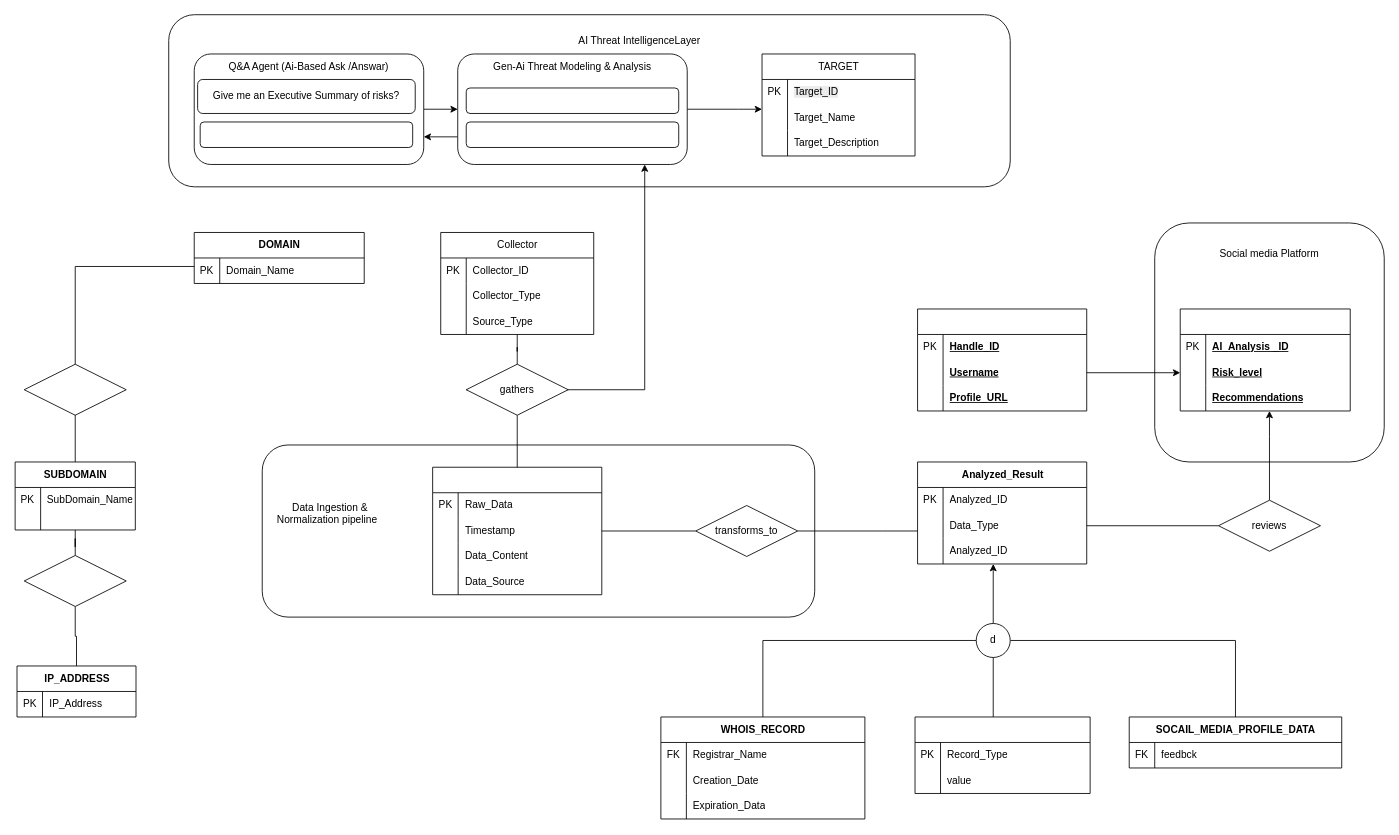
This 1399x835 diagram has some shape labels left out. Each missing label, with the box of its shape:
AI_SECUIRTY_ANALYSIS: (1179, 308, 1350, 411)
Contains: (23, 363, 126, 415)
DNS_ENTRY: (914, 716, 1090, 793)
Raw_Data_ Point: (432, 466, 602, 595)
resolves_to: (23, 555, 126, 606)
Social Media handel: (917, 308, 1087, 411)
